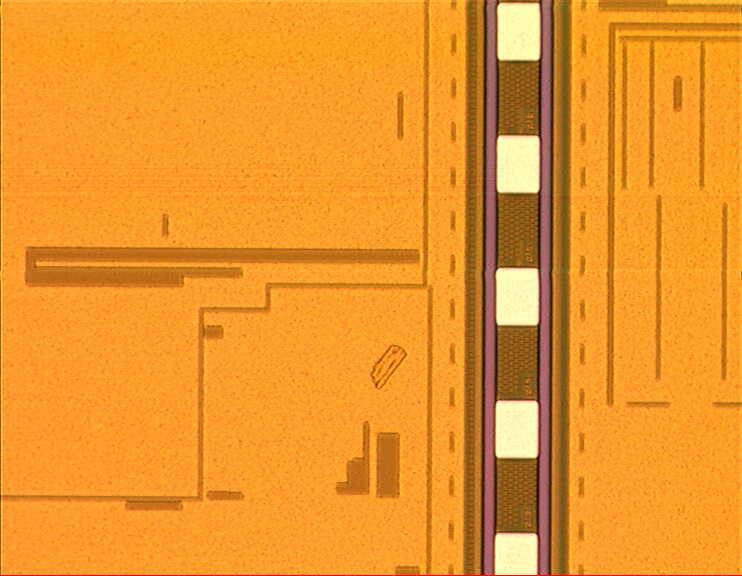BLOCK ETCH: (367, 339, 412, 401)
